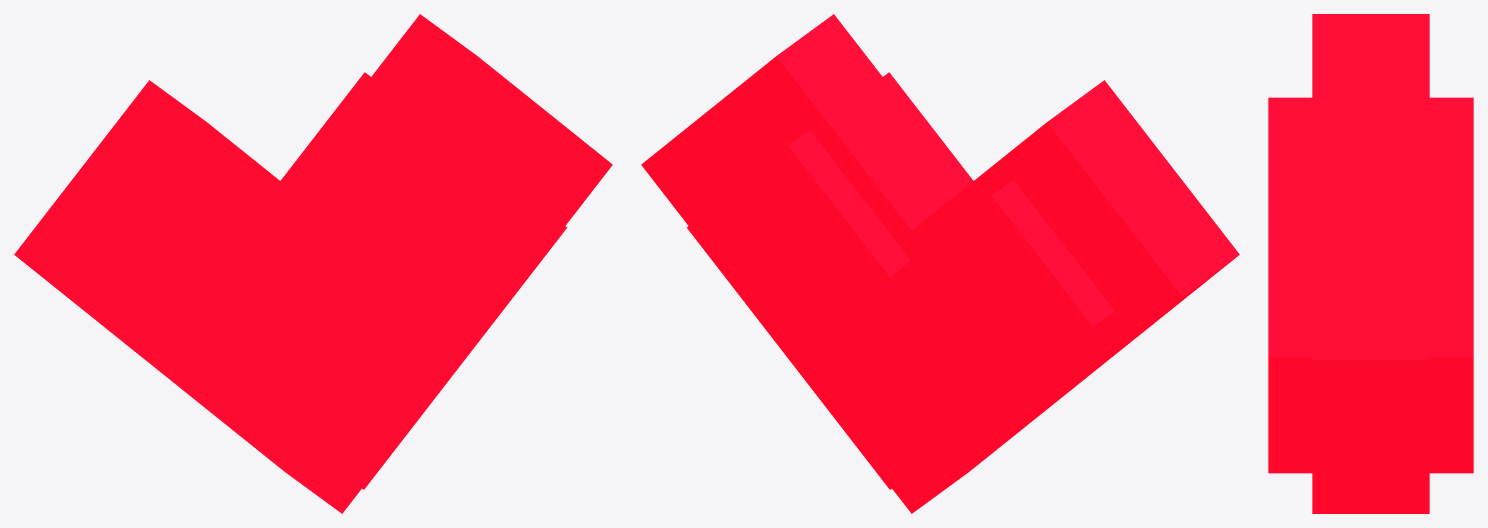
Rendered from Heart.fbx.
3 views of the same model, side by side, from view 1: azimuth 30°, elevation 25°; view 2: azimuth 150°, elevation 25°; view 3: azimuth 270°, elevation 25° (orthographic).
Visible parts, largest first — view 1: Heart; view 2: Heart; view 3: Heart.
Boxes of the visible parts, box(x1,y1,x2,y2) form: Heart: box(14, 14, 612, 513); Heart: box(641, 14, 1239, 513); Heart: box(1268, 14, 1473, 513).
Size of the model in its own units: 566 by 424 by 183.
